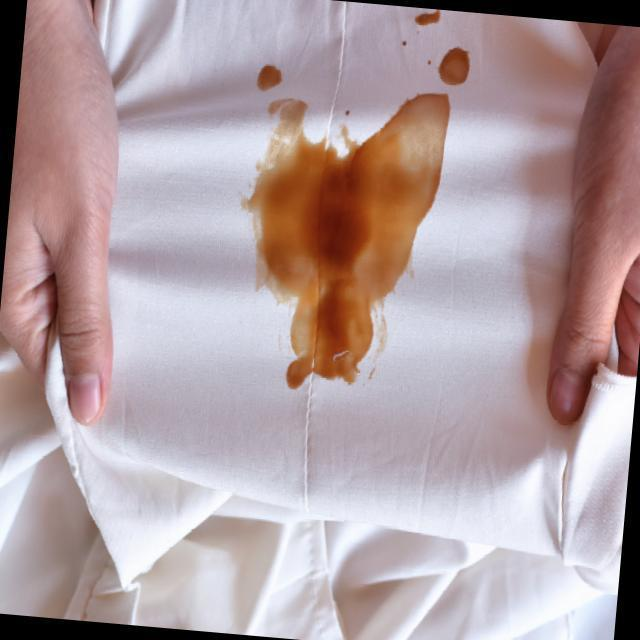coffee: (256, 102, 415, 401), (437, 45, 475, 86), (254, 61, 284, 89)
